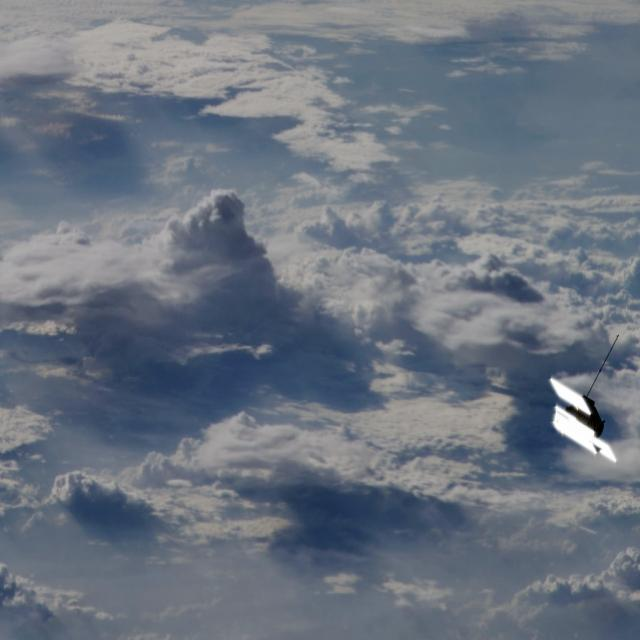medium_debris: (545, 362, 626, 472)
